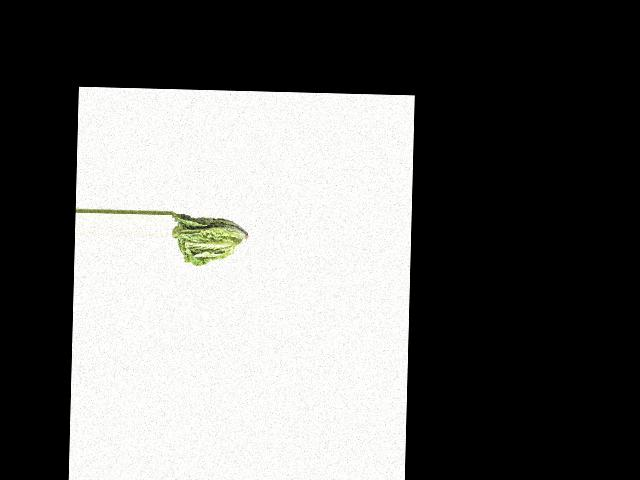lettuce: (171, 213, 246, 270)
